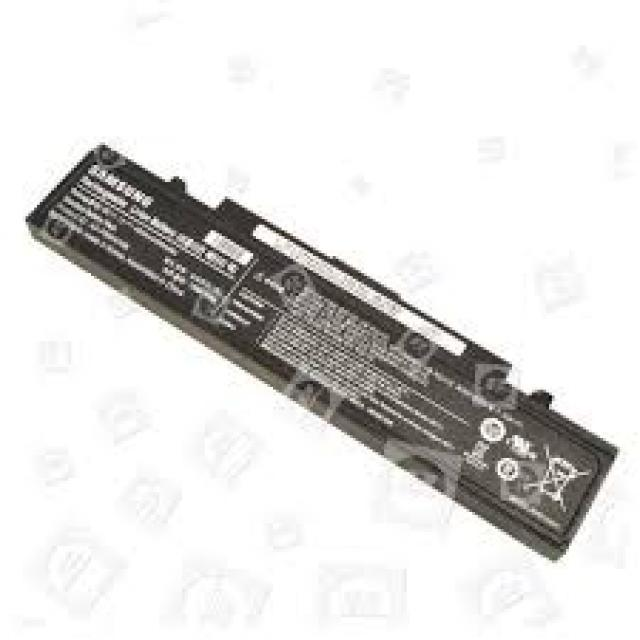battery: (26, 134, 617, 565)
